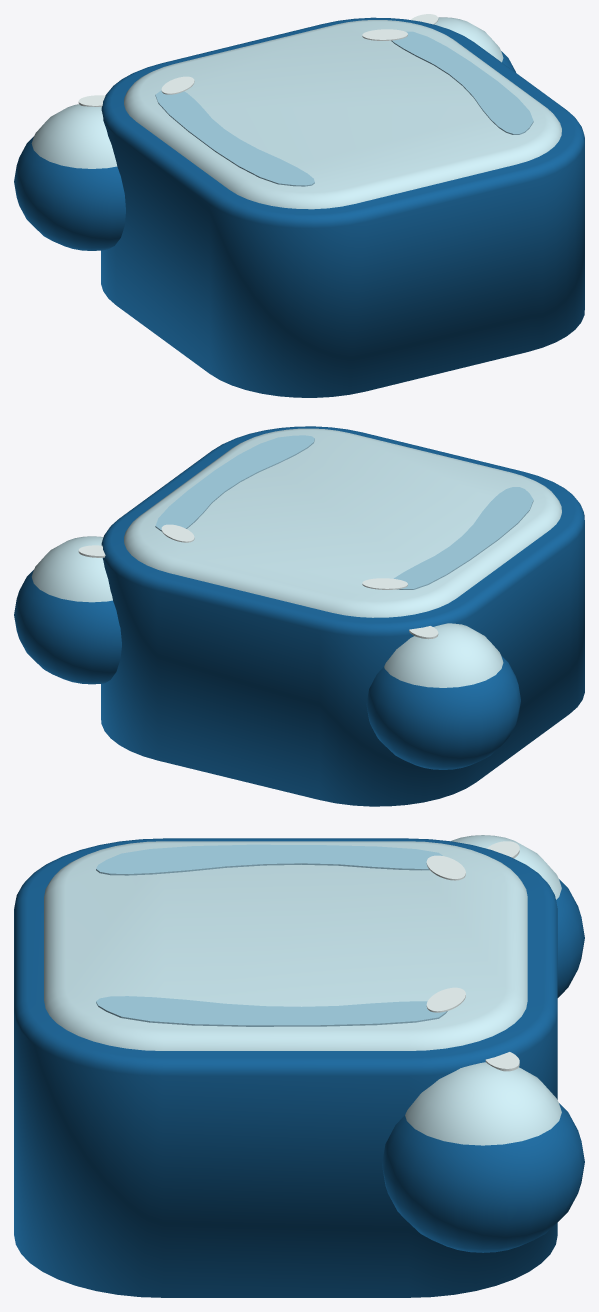
The model's file is body_basico_celeste.fbx.
3 views of the same model, one above another, from view 1: azimuth 30°, elevation 25°; view 2: azimuth 150°, elevation 25°; view 3: azimuth 270°, elevation 25° (orthographic). The views are drawn at different scales.
Parts seen in each view (by area): view 1: body_basico_celeste_corpo, body_basico_celeste_mao_esq, body_basico_celeste_mao; view 2: body_basico_celeste_corpo, body_basico_celeste_mao_esq, body_basico_celeste_mao; view 3: body_basico_celeste_corpo, body_basico_celeste_mao, body_basico_celeste_mao_esq.
Boxes of the visible parts, x1,y1,x2,y2 form: body_basico_celeste_corpo: [101, 17, 584, 397]; body_basico_celeste_mao_esq: [14, 95, 125, 250]; body_basico_celeste_mao: [411, 14, 515, 72]; body_basico_celeste_corpo: [101, 426, 584, 806]; body_basico_celeste_mao_esq: [366, 623, 520, 769]; body_basico_celeste_mao: [14, 536, 121, 684]; body_basico_celeste_corpo: [14, 838, 557, 1297]; body_basico_celeste_mao: [382, 1052, 584, 1252]; body_basico_celeste_mao_esq: [451, 835, 584, 997].
Bounding box in the file's own units: 5.4 × 2.03 × 4.2.
1 material, 1 textured.
